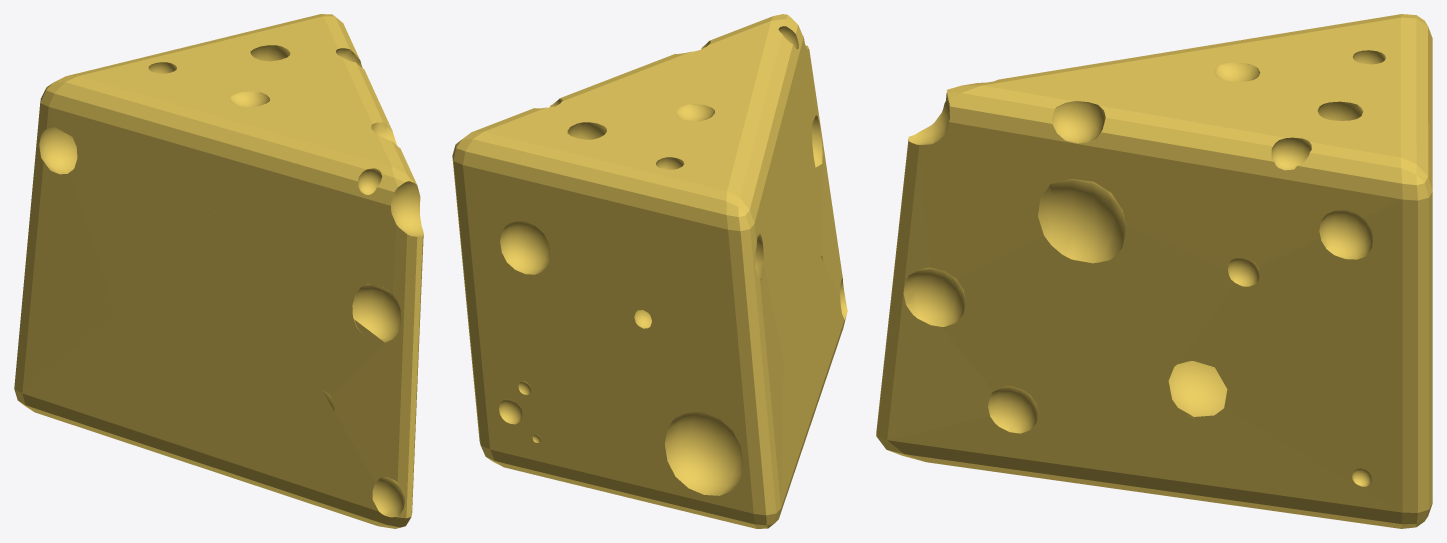
Rendered from cheese.fbx.
3 renders of one model, left to right at view 1: azimuth 30°, elevation 25°; view 2: azimuth 150°, elevation 25°; view 3: azimuth 270°, elevation 25°, orthographic. The views are drawn at different scales.
Visible parts, largest first — view 1: cheese; view 2: cheese; view 3: cheese.
Boxes of the visible parts, box(x1,y1,x2,y2) form: cheese: box(14, 14, 423, 528); cheese: box(452, 14, 847, 528); cheese: box(876, 14, 1432, 528).
Bounding box in the file's own units: 208 × 205 × 262.
